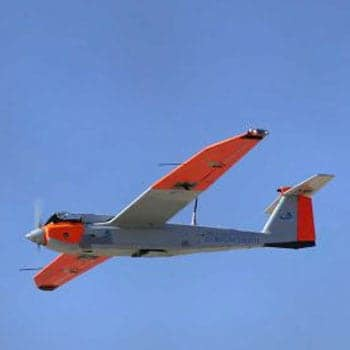maybay_khongnguoilai: (16, 131, 322, 287)
